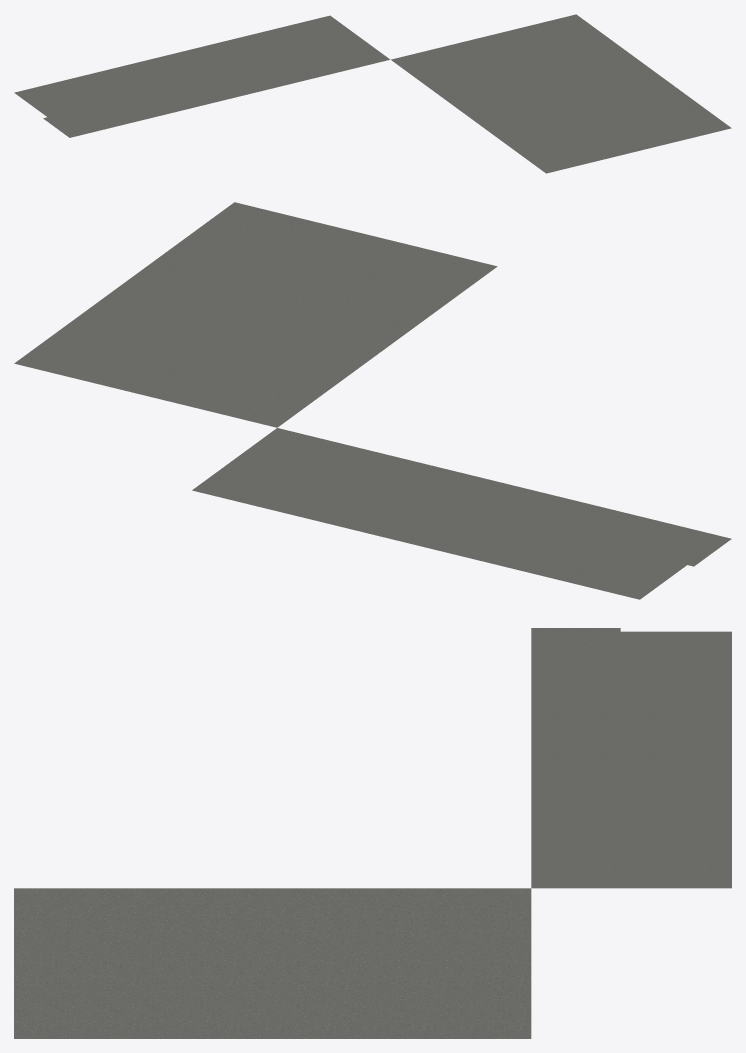
Rendered from kd_stage_135ded_3_14_exterior.glb.
3 renders of one model, top to bottom at view 1: azimuth 30°, elevation 25°; view 2: azimuth 150°, elevation 25°; view 3: azimuth 270°, elevation 25°, orthographic. The views are drawn at different scales.
Parts seen in each view (by area): view 1: kd_stage_135ded_3_14_exterior; view 2: kd_stage_135ded_3_14_exterior; view 3: kd_stage_135ded_3_14_exterior.
Boxes of the visible parts, bbox=[...] form: kd_stage_135ded_3_14_exterior: bbox=[14, 14, 731, 173]; kd_stage_135ded_3_14_exterior: bbox=[14, 202, 731, 599]; kd_stage_135ded_3_14_exterior: bbox=[14, 628, 731, 1038].
Bounding box in the file's own units: 5.45 × 1.79e-07 × 4.03.
Materials: 1 (1 with a texture image).
